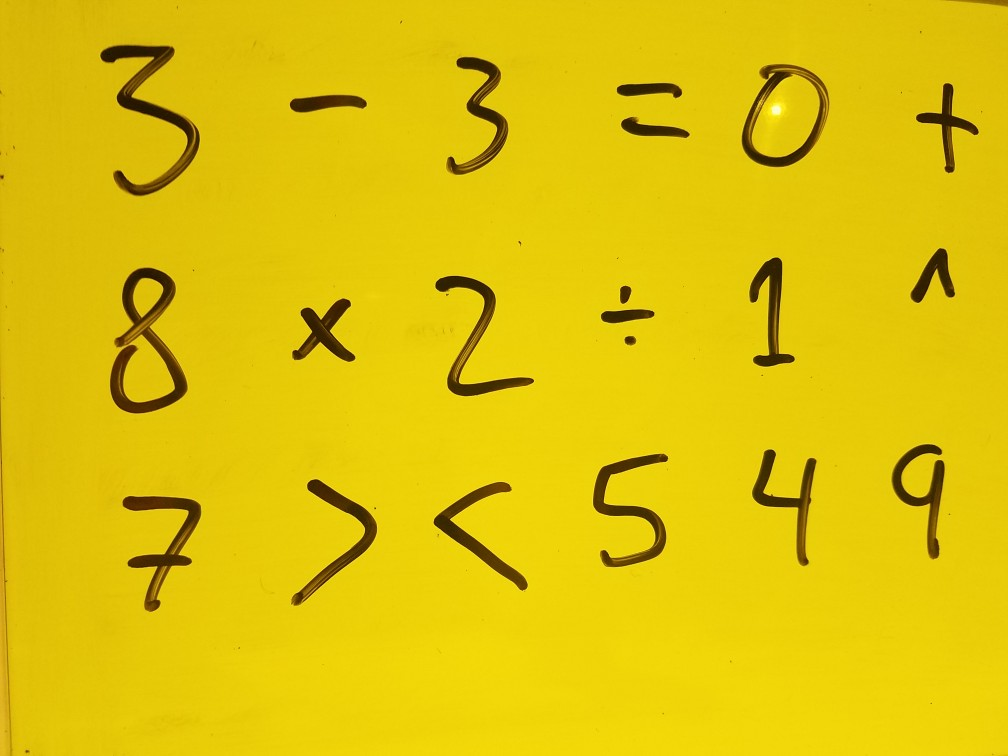+: (905, 71, 994, 193)
-: (287, 72, 371, 127)
0: (728, 48, 846, 179)
1: (723, 233, 817, 394)
2: (424, 250, 546, 428)
3: (87, 24, 224, 205), (433, 39, 510, 189)
4: (738, 429, 829, 587)
5: (573, 426, 685, 598)
7: (97, 471, 215, 628)
8: (91, 258, 204, 421)
9: (871, 422, 958, 570)
<: (423, 457, 541, 618)
=: (603, 57, 700, 151)
>: (269, 447, 388, 615)
^: (893, 229, 969, 324)
div: (582, 269, 666, 358)
x: (281, 294, 362, 381)
